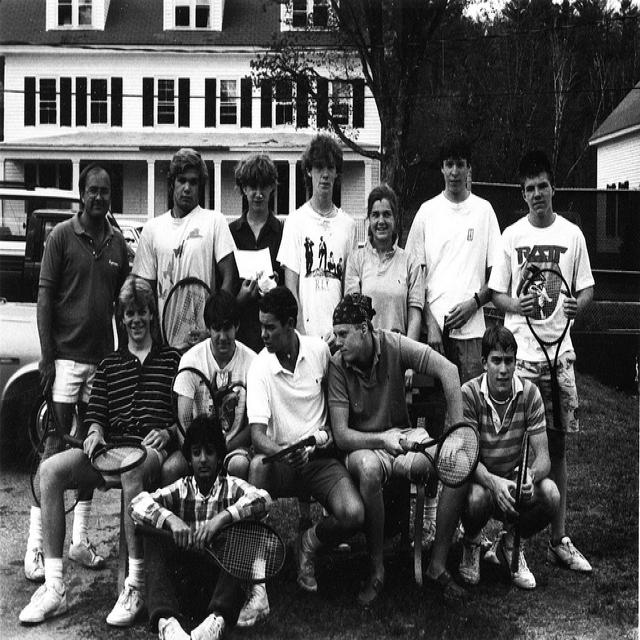Vehicle: (0, 240, 45, 473), (0, 208, 78, 302)
